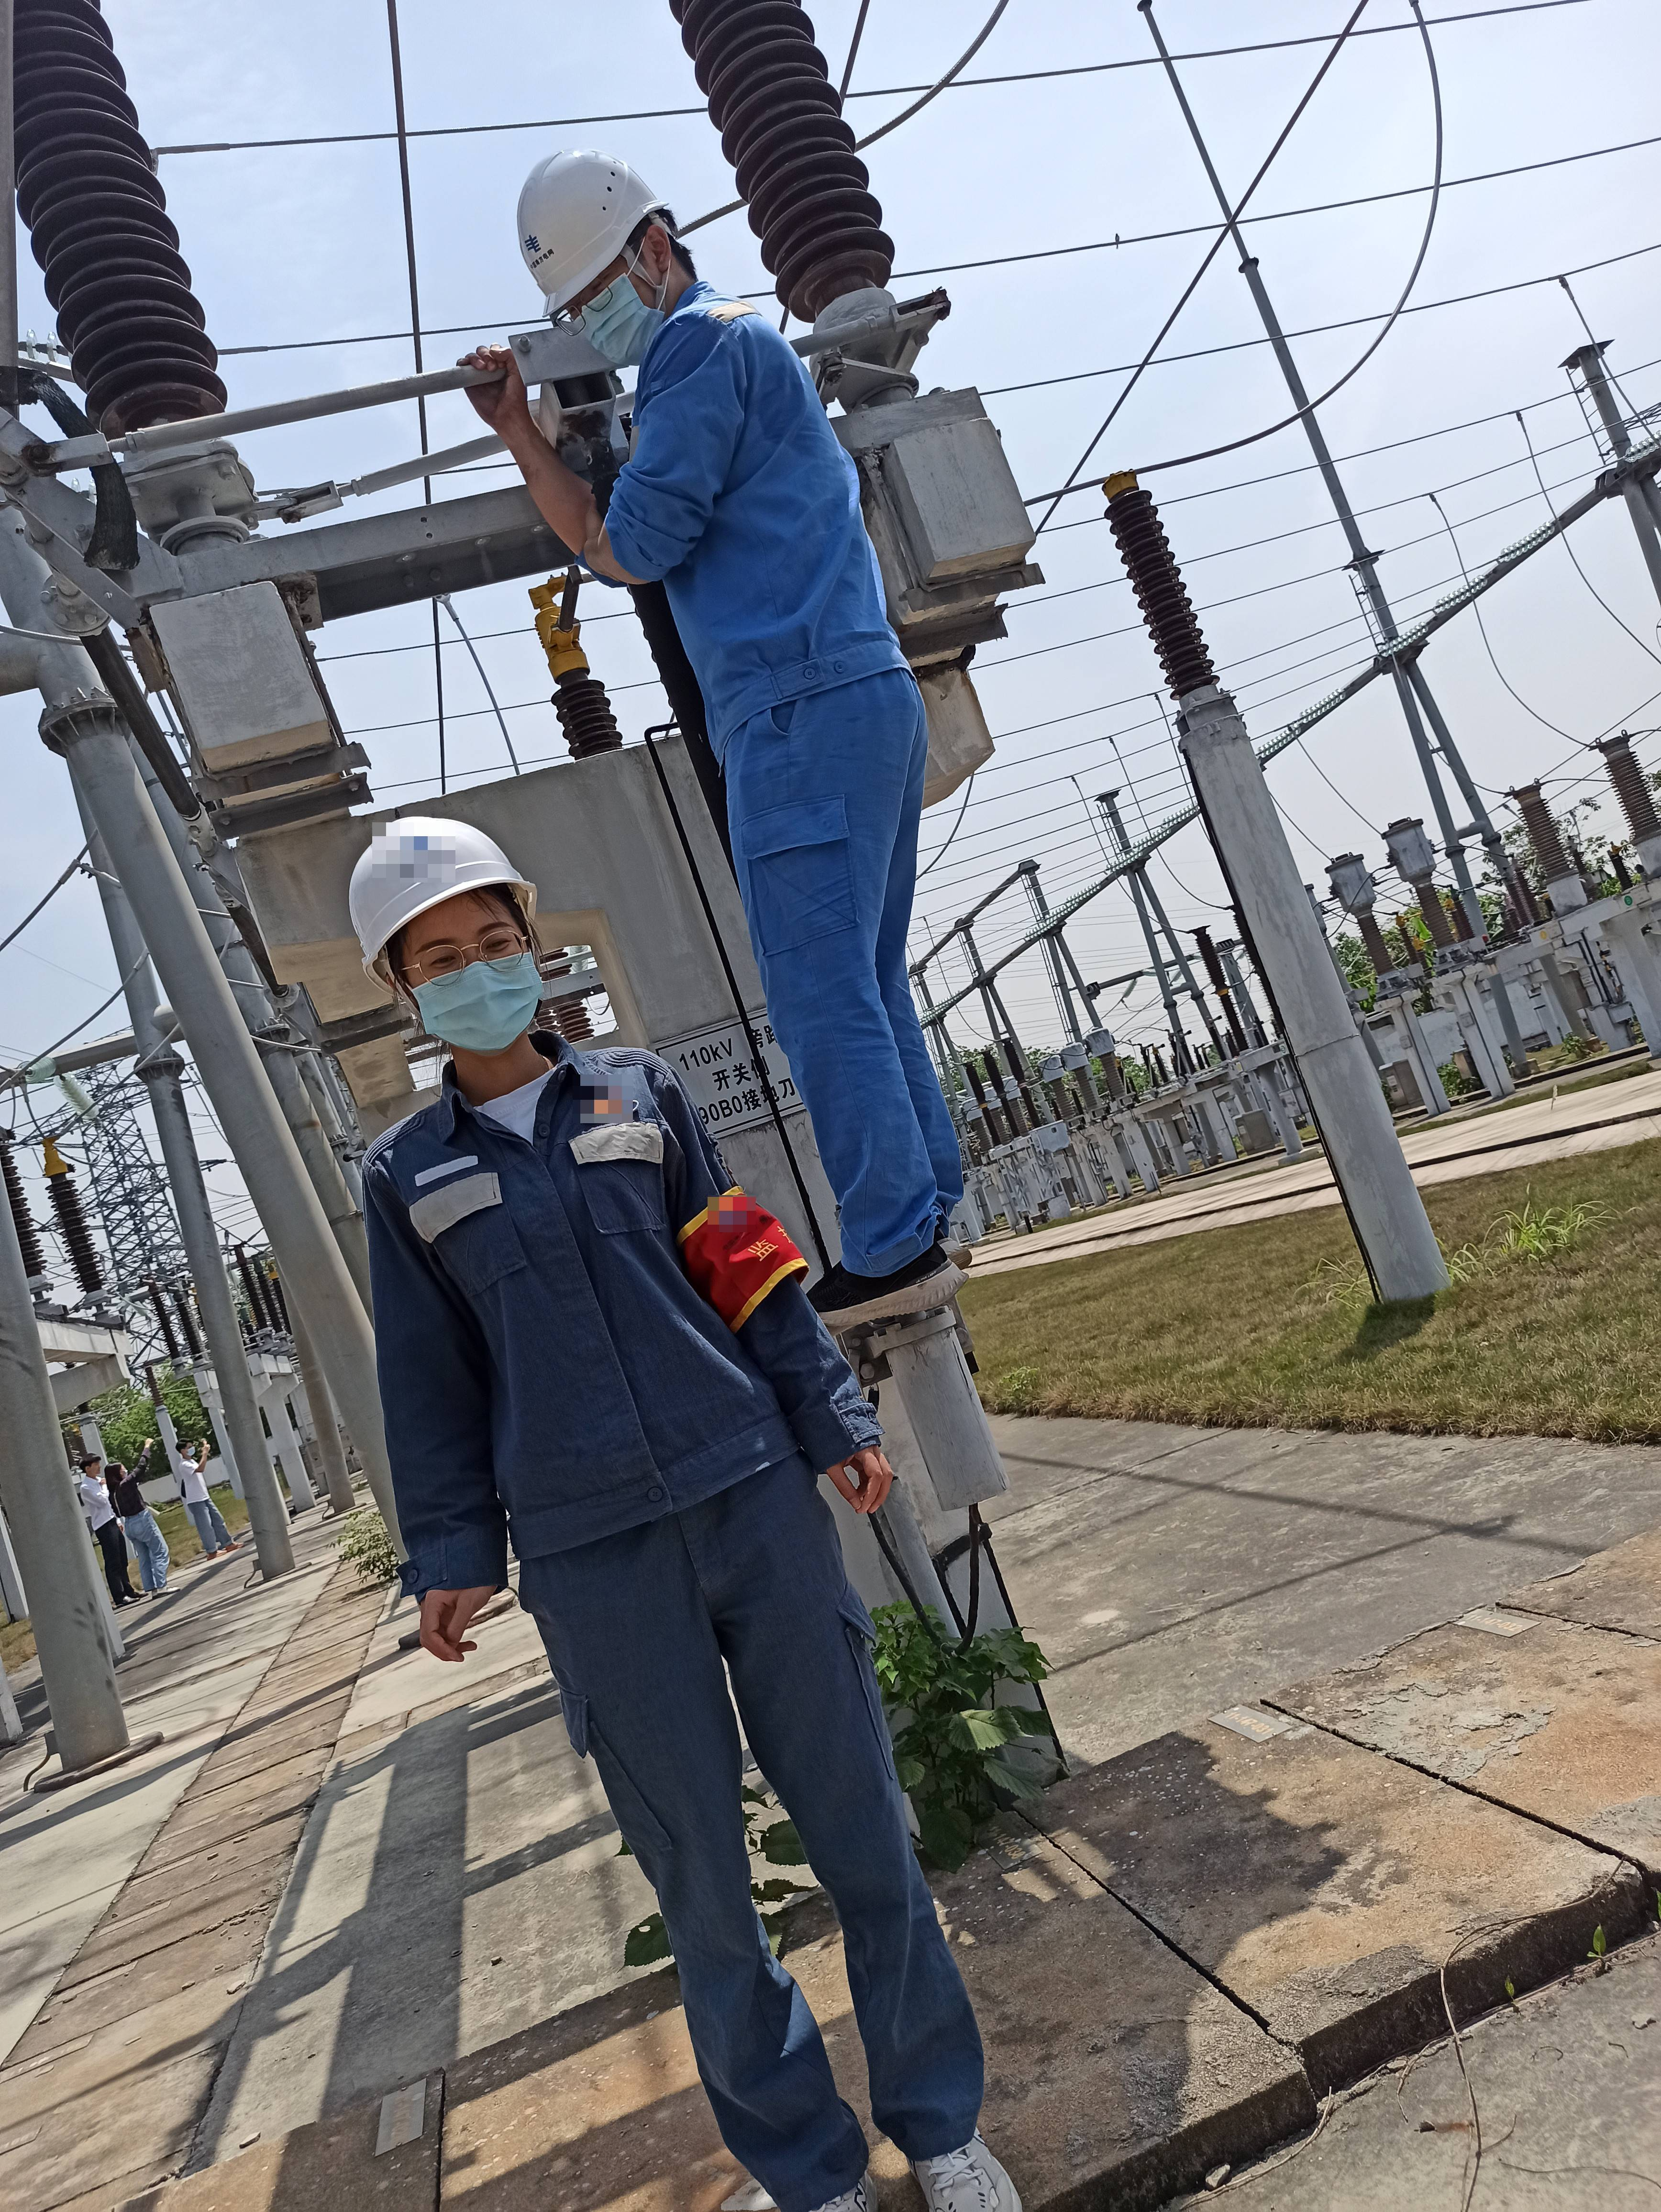downsuit: (530, 1554, 979, 2195), (733, 708, 961, 1226)
upsuit: (359, 1059, 843, 1518), (619, 317, 888, 677)
wrongtop: (454, 331, 679, 612)
